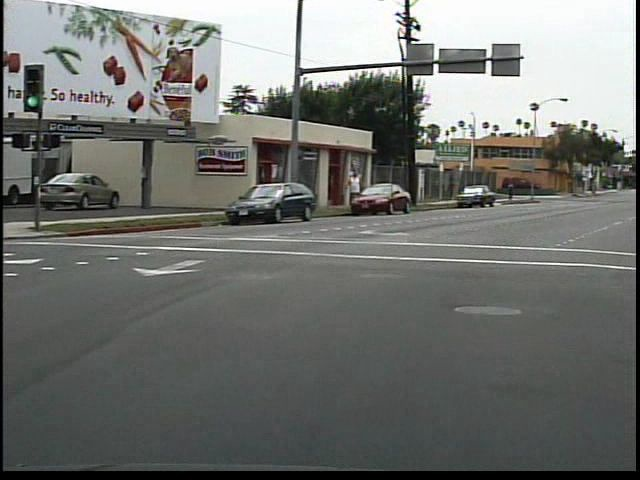person: (347, 164, 369, 212), (508, 178, 519, 205)
